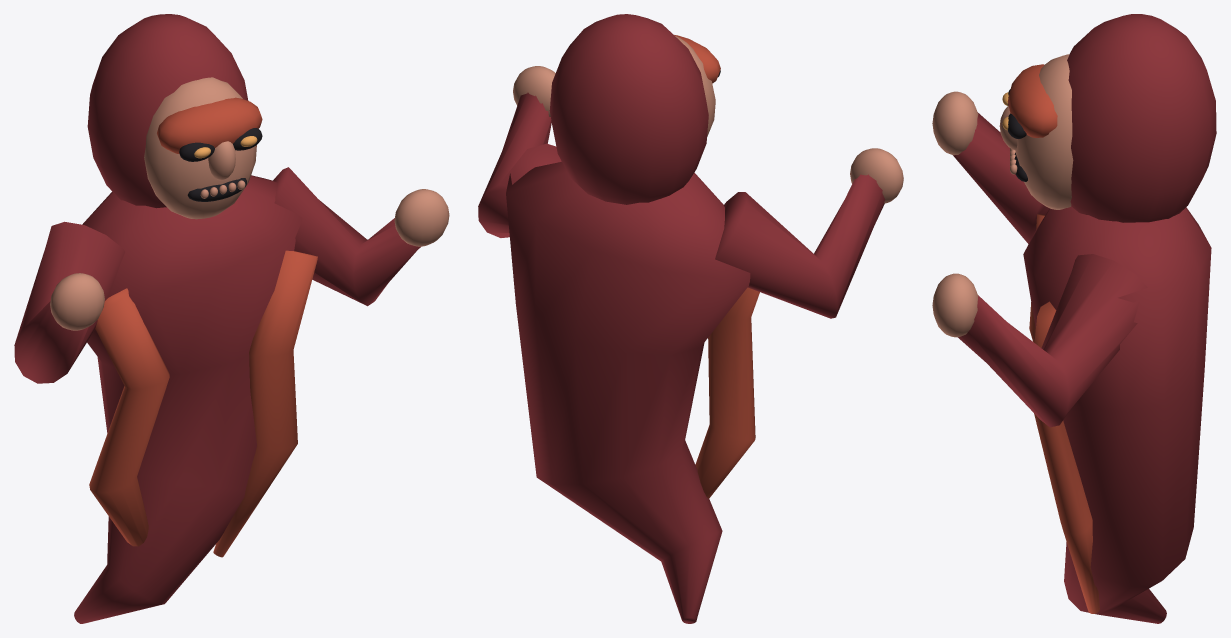
The model's file is monster-crimson-jack-spirit.glb.
3 renders of one model, left to right at view 1: azimuth 30°, elevation 25°; view 2: azimuth 150°, elevation 25°; view 3: azimuth 270°, elevation 25°, orthographic. The views are drawn at different scales.
Visible parts, largest first — view 1: crimson-jack-spirit; view 2: crimson-jack-spirit; view 3: crimson-jack-spirit.
Part boxes in pixels (x1,y1,x2,y2): crimson-jack-spirit: (14, 14, 449, 623); crimson-jack-spirit: (478, 14, 903, 623); crimson-jack-spirit: (932, 14, 1216, 623).
Bounding box in the file's own units: 0.734 × 1.05 × 0.4224.
